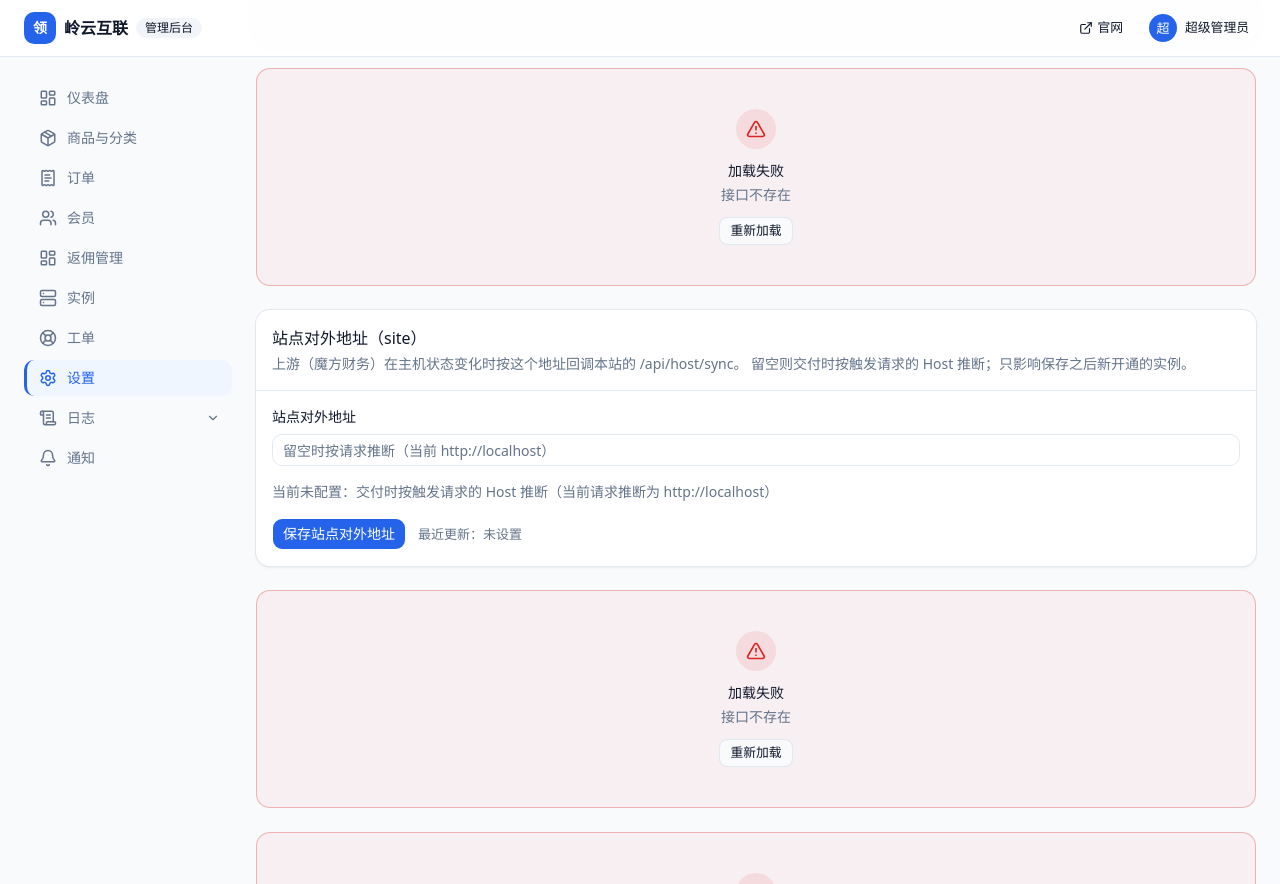
Test: 管理后台设置页：站点对外地址（R16） › 非法地址就地拒绝，且不发保存请求
(page scrolled)
In the field labelled "站点对外地址": (756, 450) [272, 434, 1240, 466], type "oem.example.com"
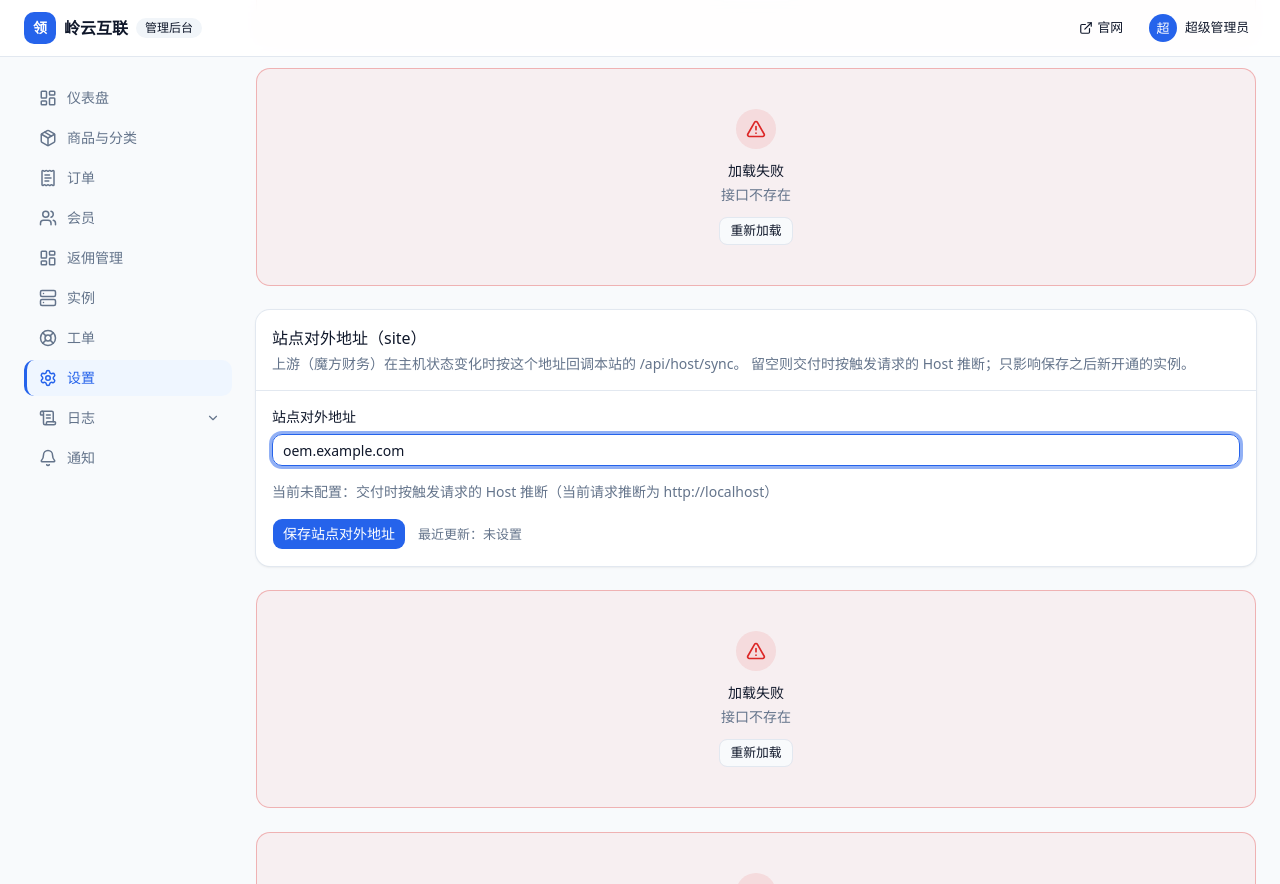
Click the button "保存站点对外地址": click(339, 534) [272, 518, 406, 550]
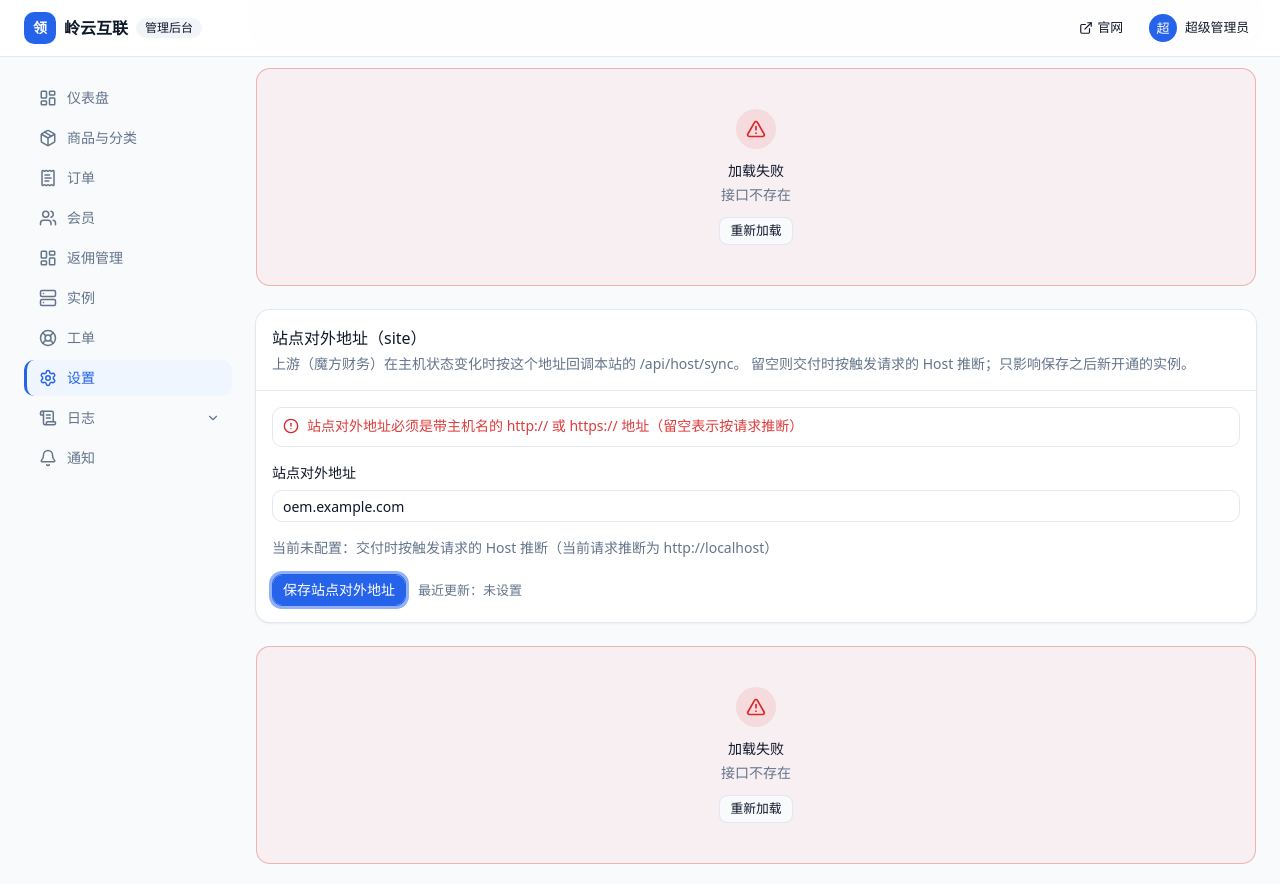
Now the text "站点对外地址必须是带主机名的 http:// 或 https:// 地址（留空表示按请求推断）" is shown, box [307, 416, 803, 435]
